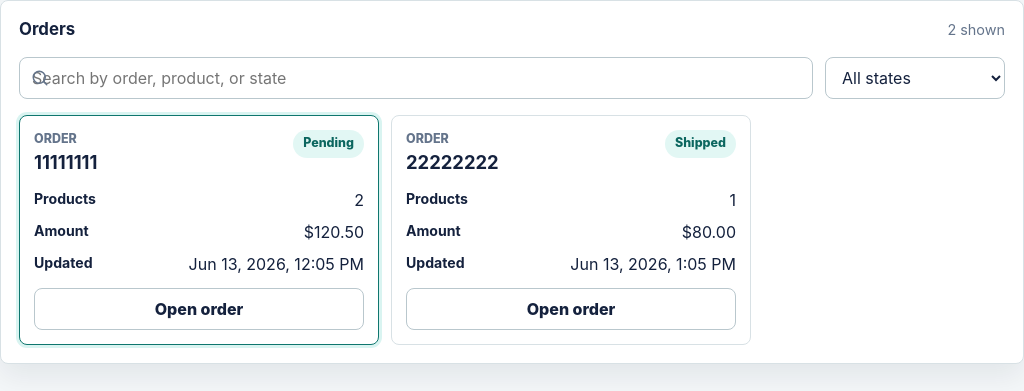
Test case: OrderList › filters by product ID
Type "warehouse-kit" into the field named "search orders". click: (416, 78)
box: [19, 57, 813, 99]
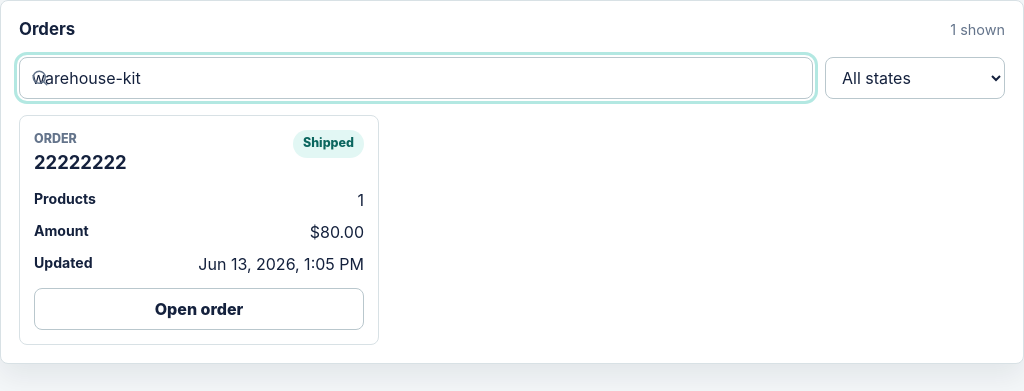
Expected: the heading "22222222" is shown, [34, 148, 127, 176]
Now the heading "11111111" is gone
